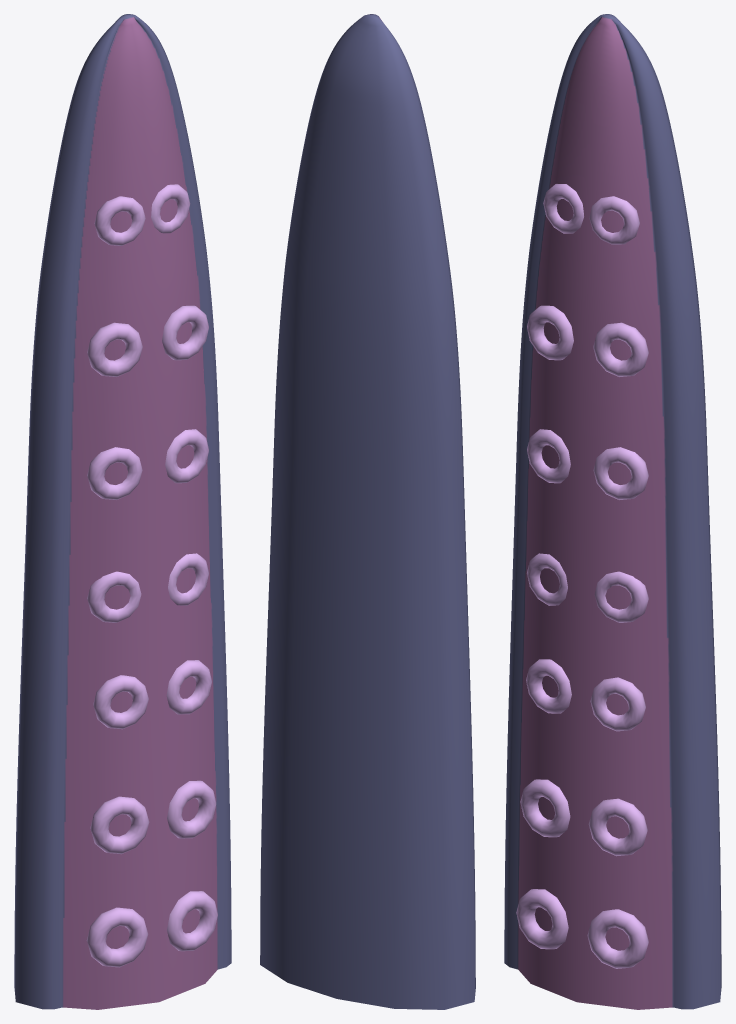
Rendered from Tentacle.fbx.
3 renders of one model, left to right at view 1: azimuth 30°, elevation 25°; view 2: azimuth 150°, elevation 25°; view 3: azimuth 330°, elevation 25°, orthographic.
Visible parts, largest first — view 1: Nurbs路徑, tentacle; view 2: Nurbs路徑; view 3: Nurbs路徑, tentacle.
Part boxes in pixels (x1,y1,x2,y2): Nurbs路徑: (14,14,231,1009); tentacle: (86,184,217,967); Nurbs路徑: (260,14,475,1009); Nurbs路徑: (504,14,721,1009); tentacle: (516,184,648,968).
Size of the model in its own units: 90.7 by 390 by 50.93.
